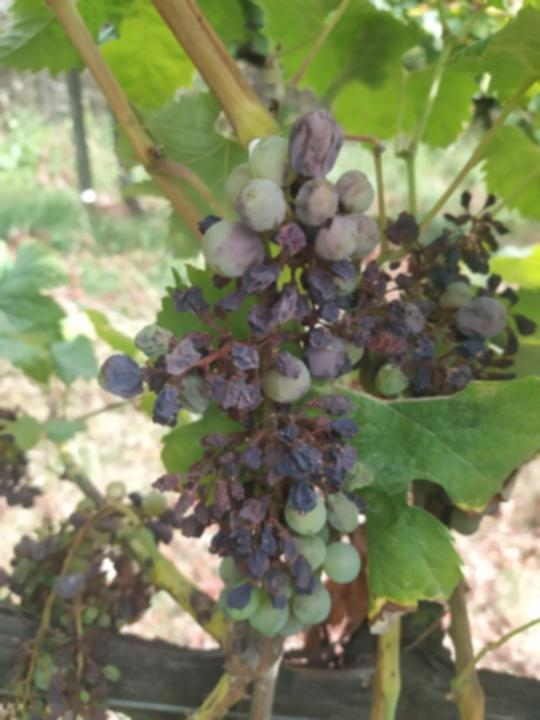grape: (94, 105, 426, 645)
